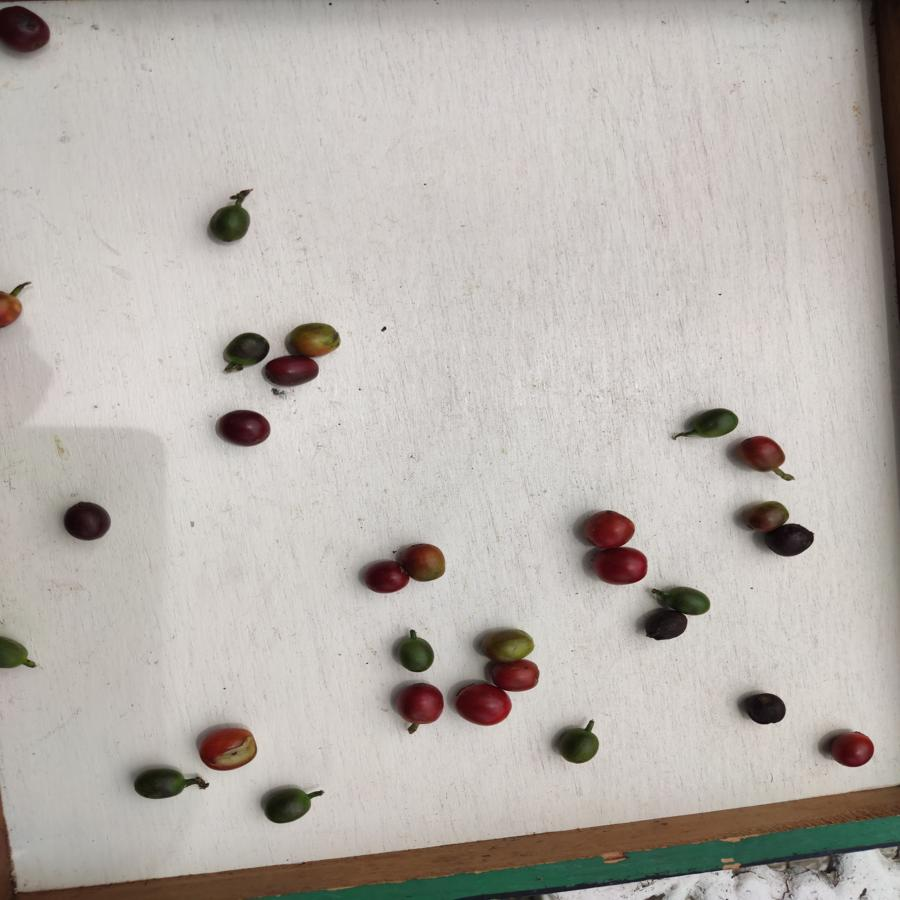Inmaduro: (264, 785, 311, 828), (556, 726, 602, 765), (132, 767, 187, 799), (207, 205, 250, 245), (395, 631, 435, 672), (223, 330, 268, 366), (688, 409, 738, 438), (660, 587, 711, 615), (1, 632, 33, 673)
Maduro: (454, 682, 513, 726), (198, 728, 256, 771), (591, 546, 650, 587), (578, 509, 636, 548), (396, 682, 446, 724), (826, 730, 874, 772), (361, 559, 408, 595), (490, 661, 540, 694)
Pinton: (479, 628, 535, 663), (284, 322, 340, 357), (736, 434, 785, 472), (407, 541, 448, 584), (740, 500, 787, 529)
Sobremaduro: (1, 4, 51, 53), (216, 408, 270, 447), (62, 501, 112, 541), (265, 356, 320, 387), (766, 524, 813, 557), (742, 692, 786, 725), (644, 611, 689, 641)
